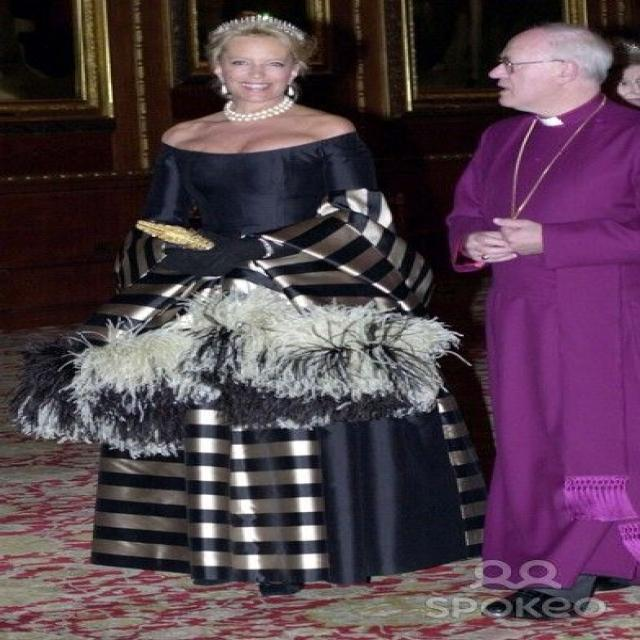Earring: (217, 80, 233, 104), (287, 86, 303, 103)
